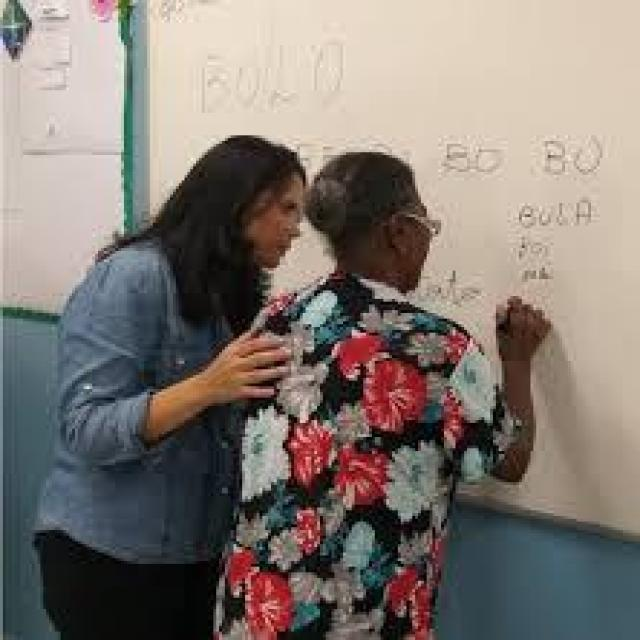person: (256, 141, 548, 632), (46, 96, 291, 631)
